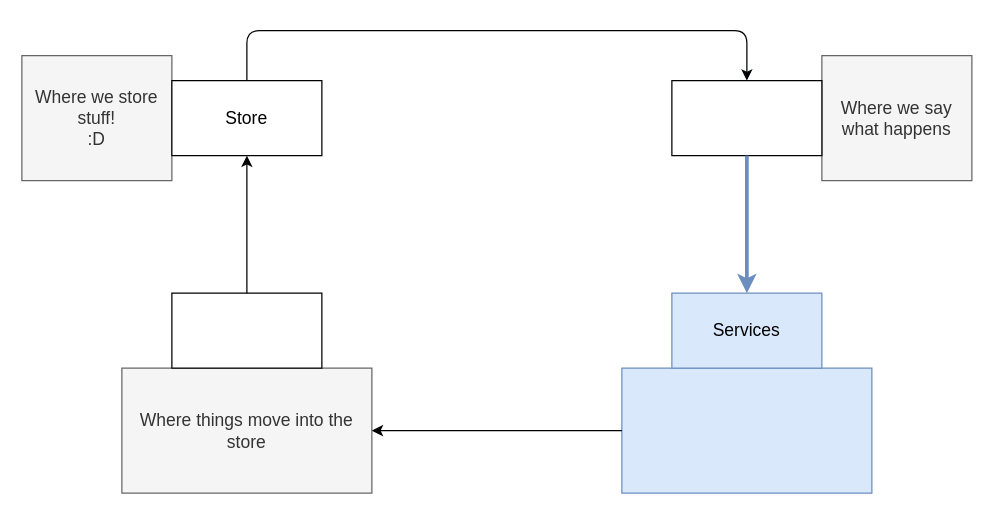
The diagram is 994 pixels wide and 515 high, and some of its shapes have lost their labels. The shapes that lost their labels are listed below. From the top down, each one's box as (x1, y1, x2, y2) in pixels, then its label:
(671, 79, 822, 156): Actions
(171, 292, 322, 368): Reducers
(621, 367, 872, 493): This is what calls to other APIs
